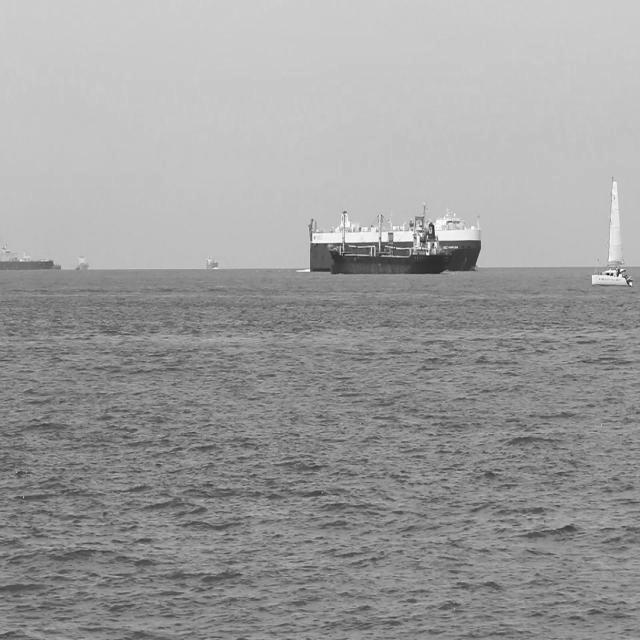ship: (306, 204, 484, 274), (326, 200, 457, 280), (592, 168, 636, 288), (0, 246, 56, 274), (71, 250, 90, 274), (204, 252, 220, 272)
